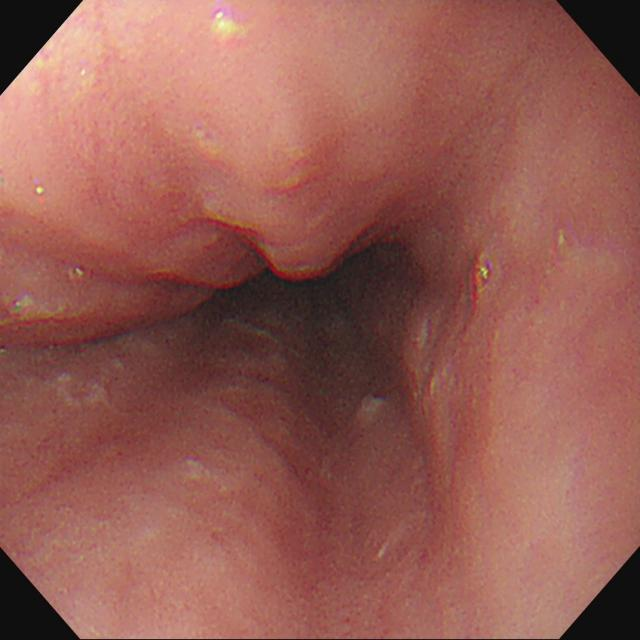E: (222, 229, 426, 404)
